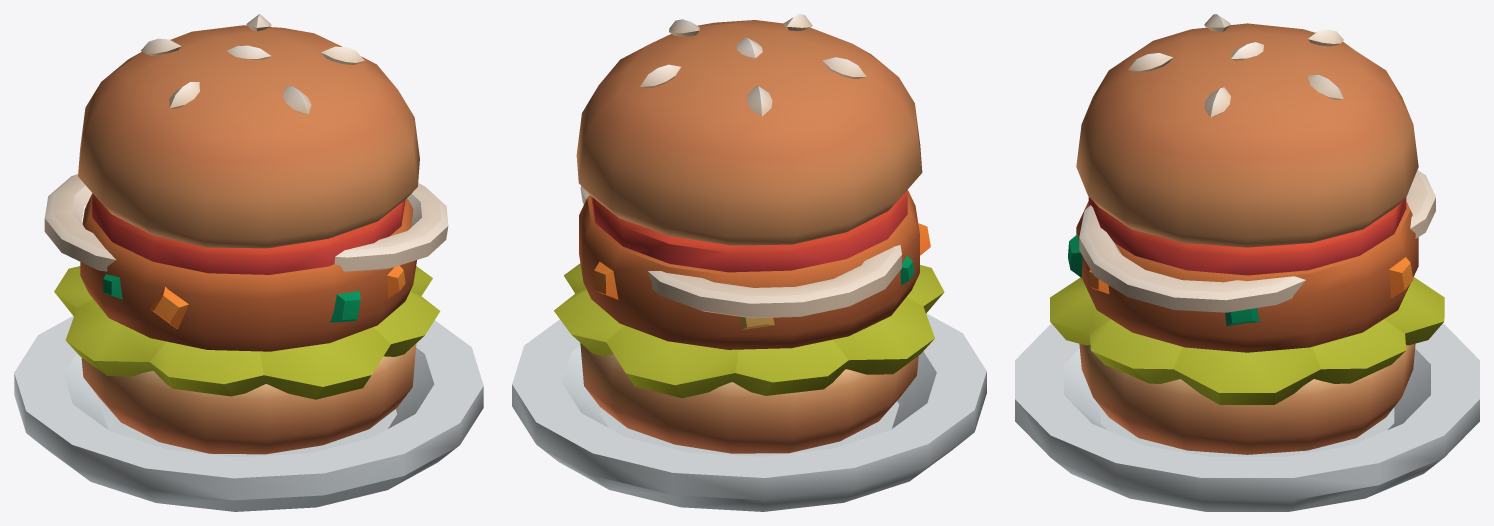
Rendered from food_vegetableburger.obj.
3 renders of one model, left to right at view 1: azimuth 30°, elevation 25°; view 2: azimuth 150°, elevation 25°; view 3: azimuth 270°, elevation 25°, orthographic.
Visible parts, largest first — view 1: food_vegetableburger_Cylinder.179; view 2: food_vegetableburger_Cylinder.179; view 3: food_vegetableburger_Cylinder.179.
Part boxes in pixels (<box>): food_vegetableburger_Cylinder.179: <box>14,14,483,511</box>; food_vegetableburger_Cylinder.179: <box>512,14,986,511</box>; food_vegetableburger_Cylinder.179: <box>1015,14,1479,511</box>.
Size of the model in its own units: 0.95 by 0.8572 by 0.95.
1 material, 1 textured.
